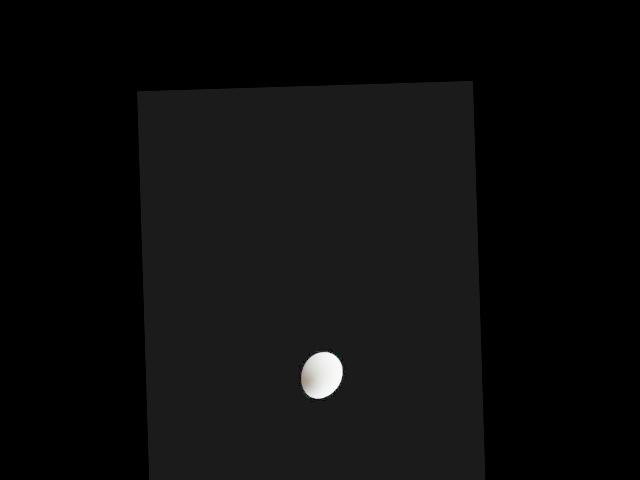egg: (300, 351, 343, 399)
